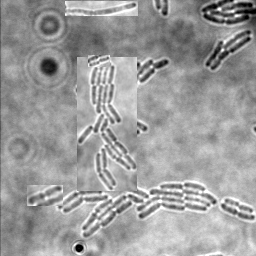Dividing: (65, 1, 138, 16), (27, 185, 63, 206), (219, 204, 255, 222), (223, 199, 253, 215), (88, 55, 110, 67)
Microcolony: (57, 167, 216, 238), (77, 57, 137, 191), (204, 30, 251, 72), (200, 1, 255, 26)
